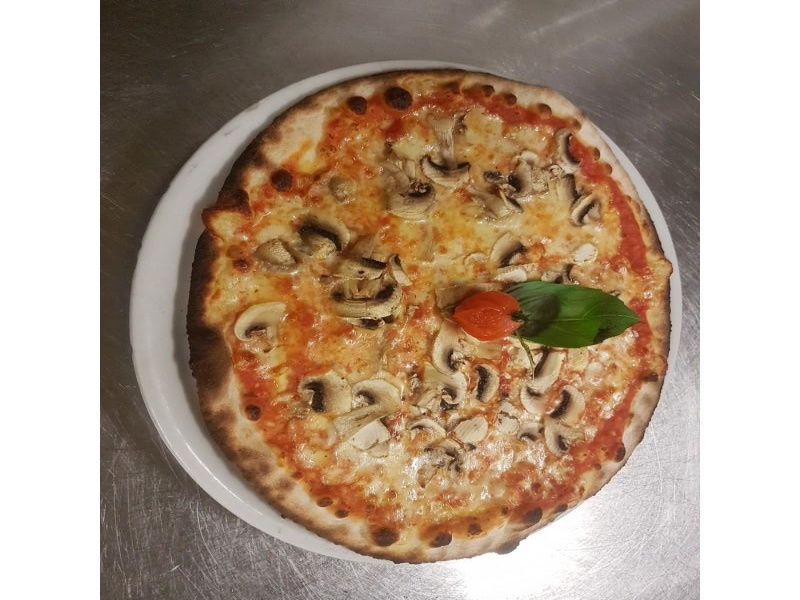champignon: (321, 270, 410, 326), (410, 152, 479, 192), (548, 384, 597, 429)
